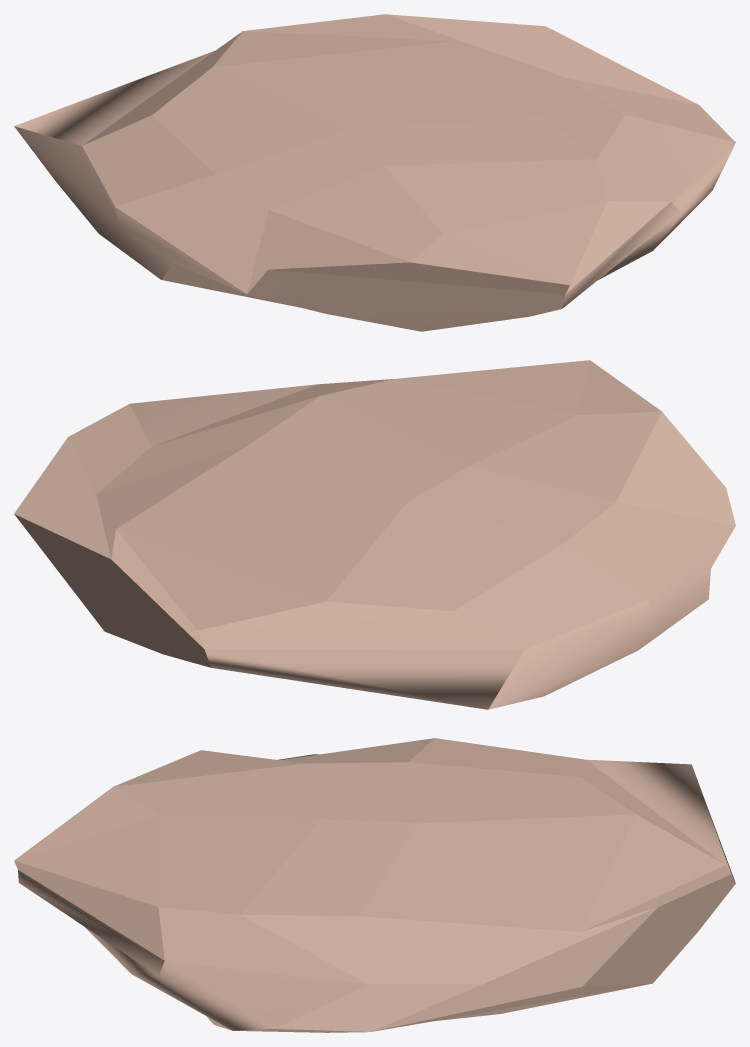
Rendered from plancherVolcanRond.fbx.
3 views of the same model, one above another, from view 1: azimuth 30°, elevation 25°; view 2: azimuth 150°, elevation 25°; view 3: azimuth 270°, elevation 25° (orthographic). The views are drawn at different scales.
Visible parts, largest first — view 1: plancherVolcanRond; view 2: plancherVolcanRond; view 3: plancherVolcanRond.
Boxes of the visible parts, x1,y1,x2,y2 form: plancherVolcanRond: (14,14,735,331); plancherVolcanRond: (14,360,735,709); plancherVolcanRond: (14,738,735,1032).
Bounding box in the file's own units: 595 × 98.39 × 637.
